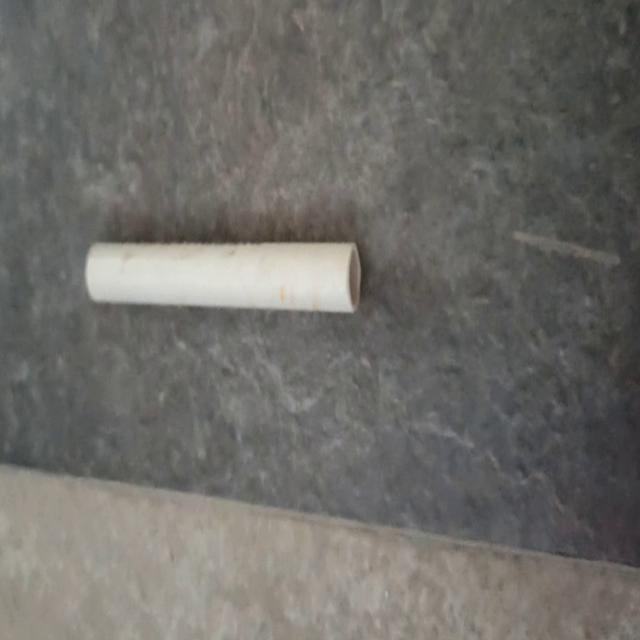Cube: (84, 237, 362, 316)
